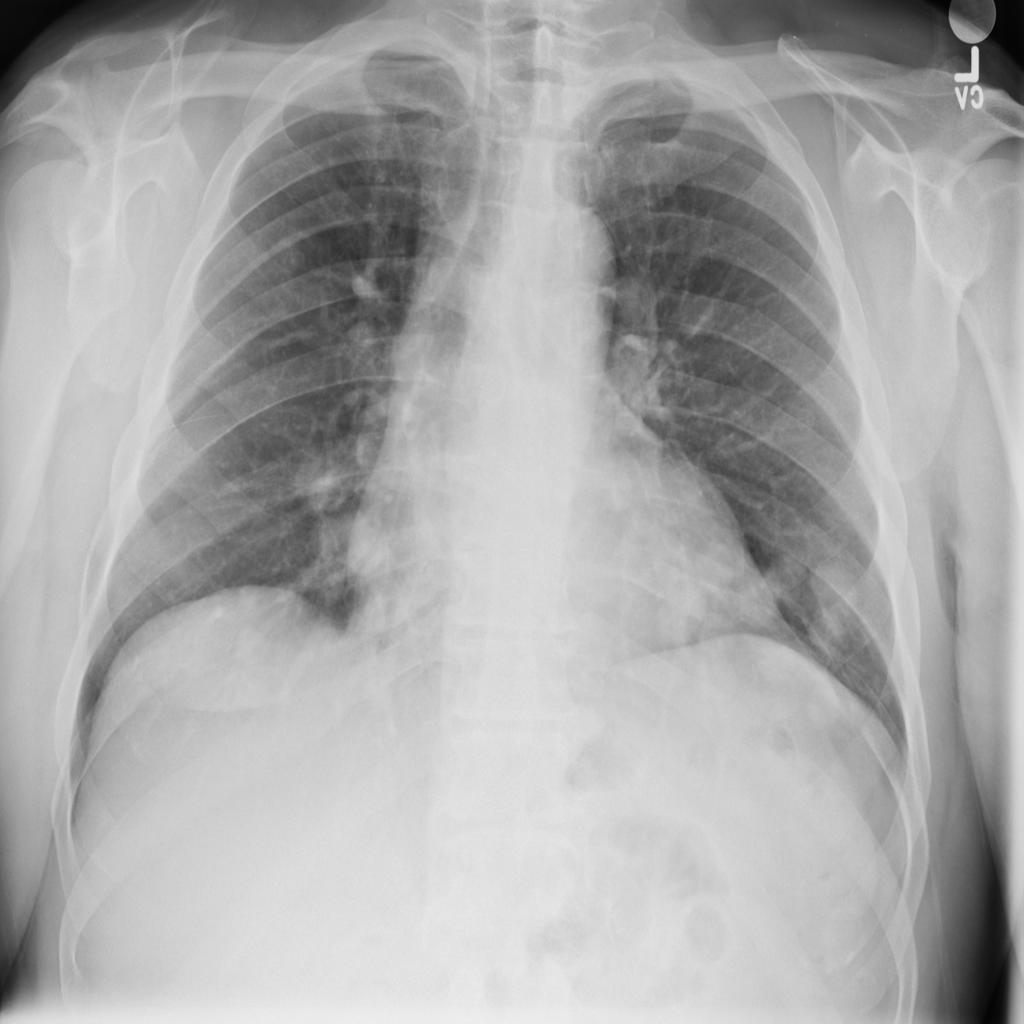nodule: (305, 491, 407, 610), (799, 550, 870, 637), (286, 444, 357, 523), (724, 555, 792, 637), (745, 638, 821, 710), (684, 524, 755, 601), (640, 581, 712, 655), (793, 668, 864, 743), (857, 663, 905, 718)
